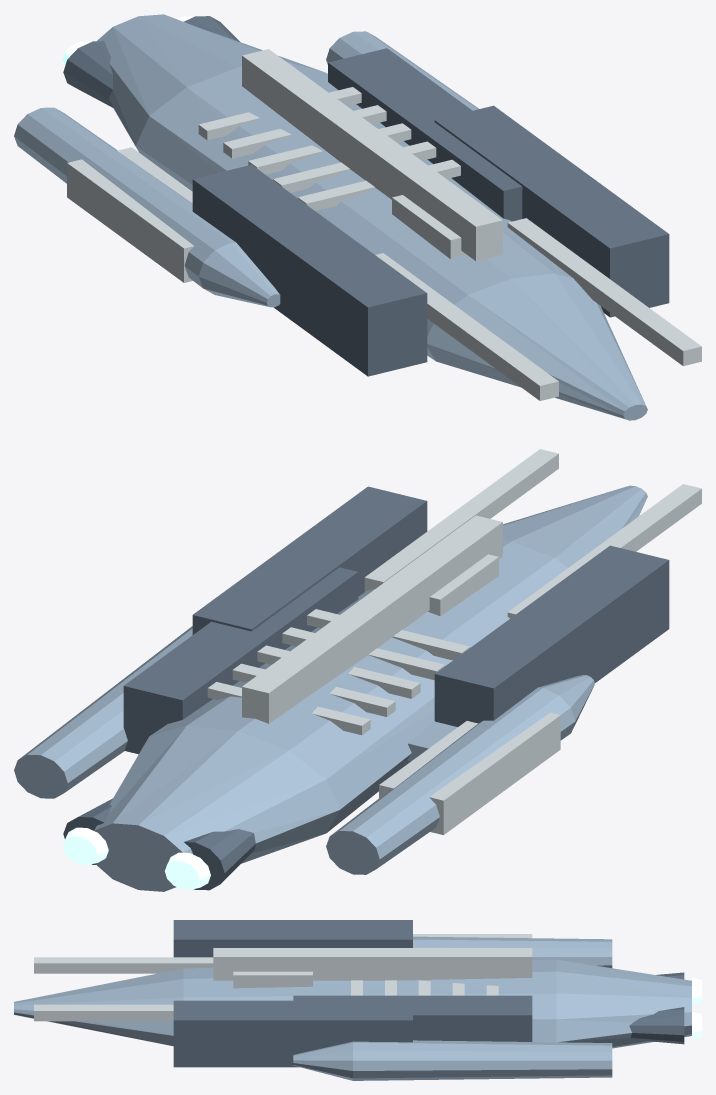
The picture shows the model from 3 angles, top to bottom: view 1: azimuth 30°, elevation 25°; view 2: azimuth 150°, elevation 25°; view 3: azimuth 270°, elevation 25°; orthographic projection. The views are drawn at different scales.
Size of the model in its own units: 3.36 by 1.16 by 7.8.
